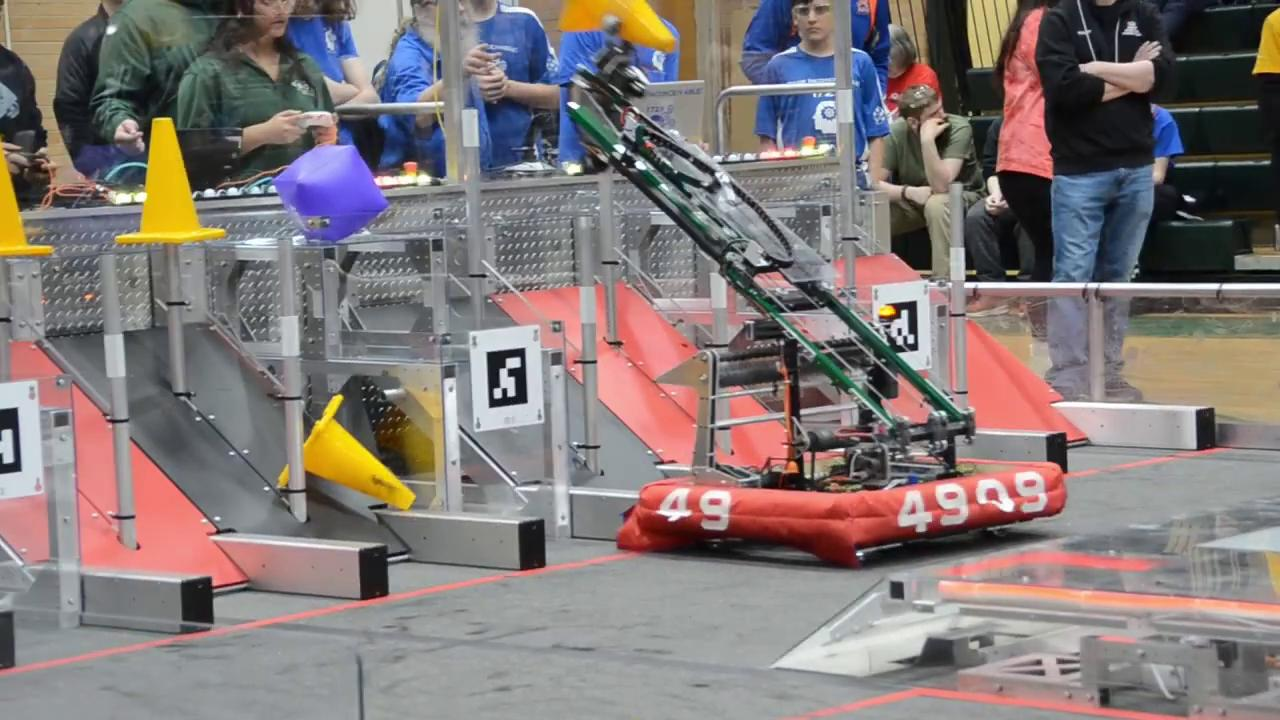robot: (566, 35, 1070, 562)
